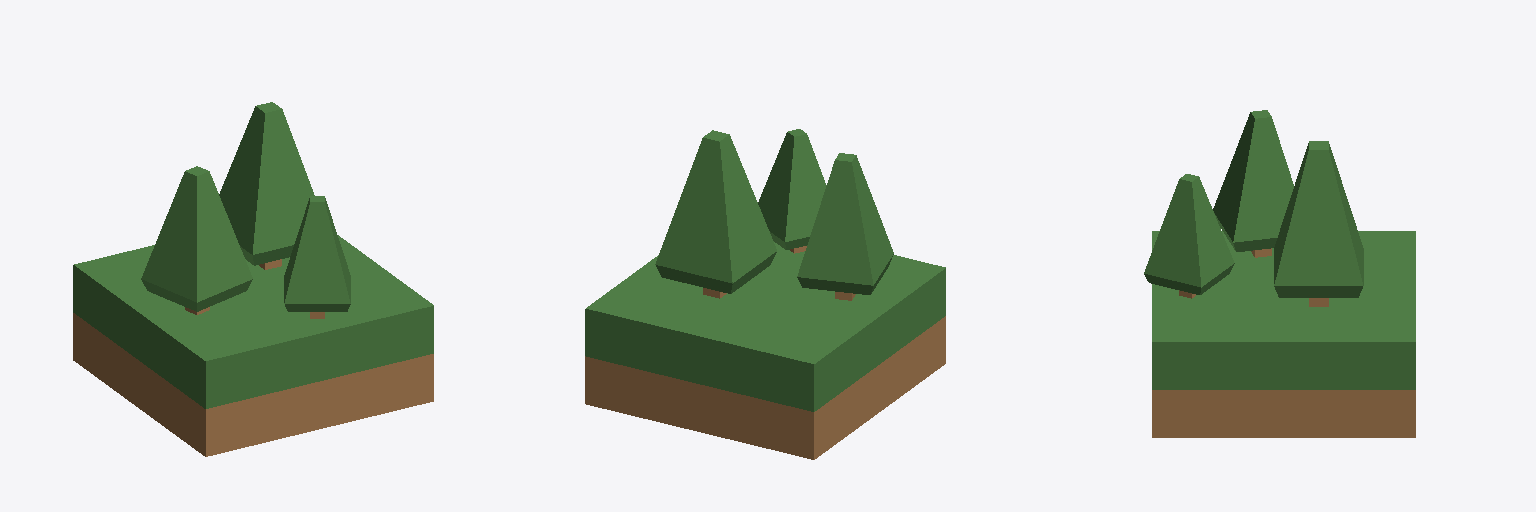
The model's file is tile_059.obj.
3 views of the same model, side by side, from view 1: azimuth 30°, elevation 25°; view 2: azimuth 150°, elevation 25°; view 3: azimuth 270°, elevation 25° (orthographic).
Parts seen in each view (by area): view 1: tile_059, Component#2; view 2: tile_059, Component#2; view 3: tile_059, Component#2.
Part boxes in pixels (x1,y1,x2,y2): tile_059: (73, 235, 433, 456); Component#2: (141, 102, 350, 318); tile_059: (585, 242, 945, 459); Component#2: (655, 129, 893, 300); tile_059: (1152, 231, 1415, 437); Component#2: (1144, 110, 1363, 306).
Bounding box in the file's own units: 1 × 1.06 × 1.03.